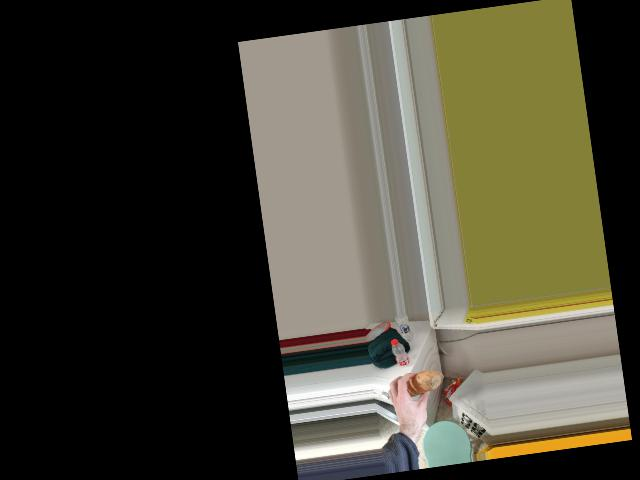sweet_potato: (401, 368, 436, 403)
